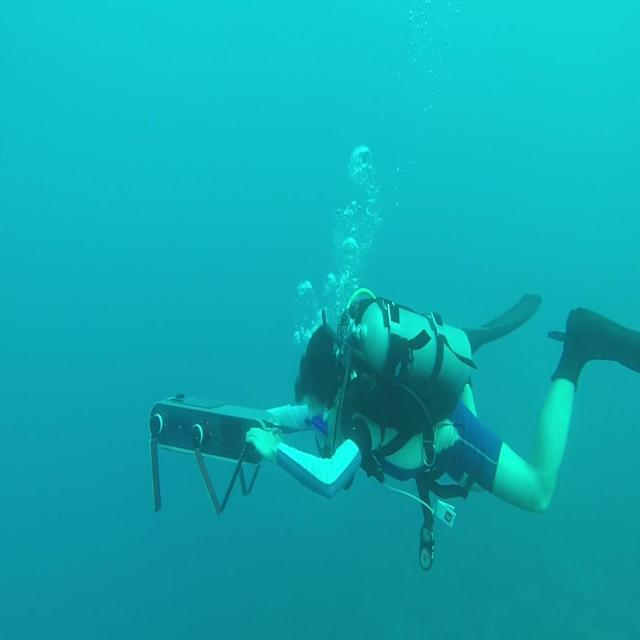human: (244, 286, 639, 570)
